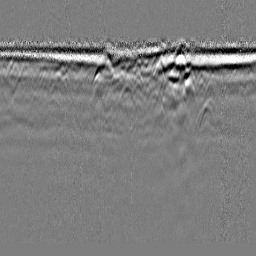cavity: (116, 82, 136, 111)
